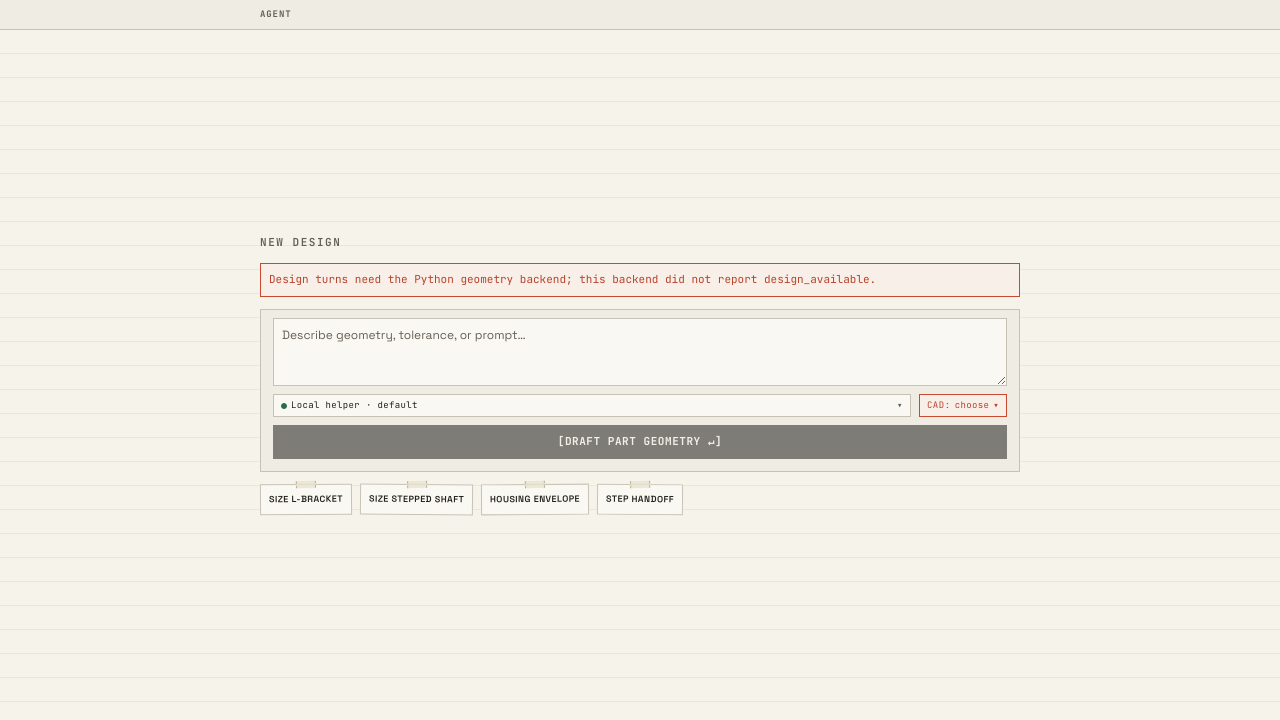
Test: agent card badge › shows the offline local route and the measured reply time
Click the button "Local helper · default ▾" at (326, 405), box [273, 394, 911, 417]
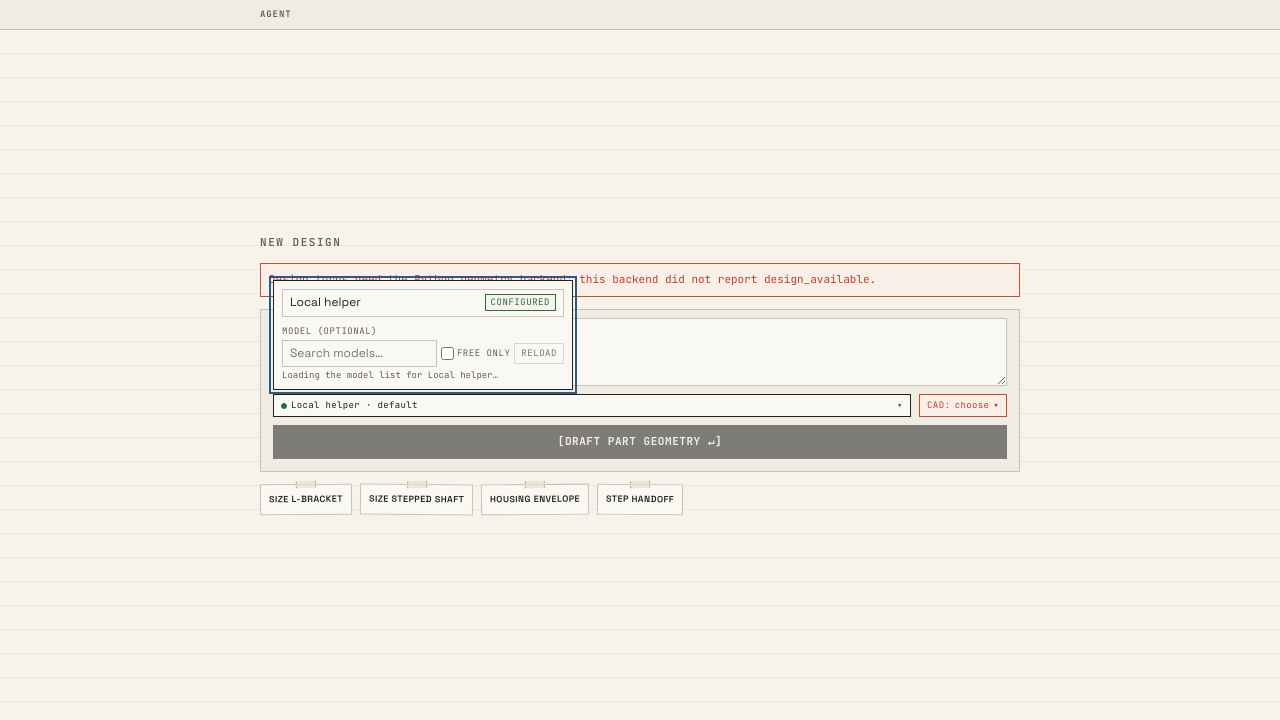
Click the button "Local helper Configured" at (325, 302), box [282, 289, 564, 317]
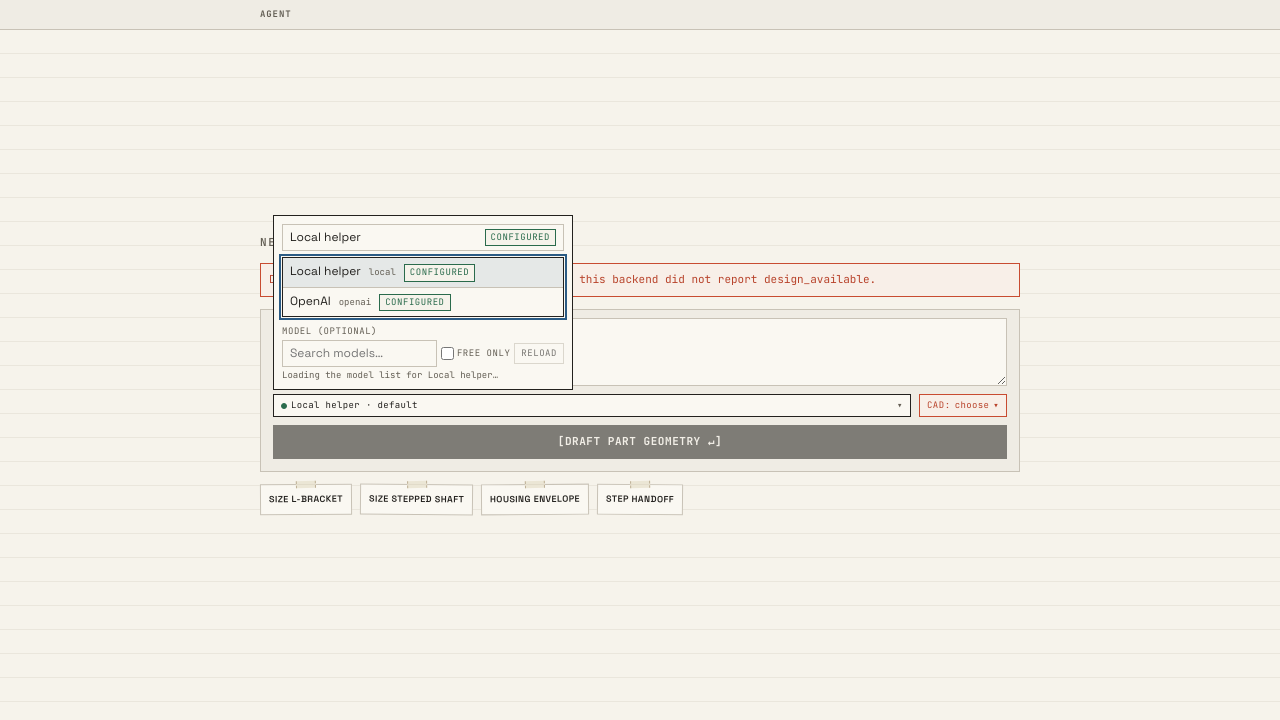
Click the option "Local helper local Configured" at (423, 273), box [283, 258, 563, 288]
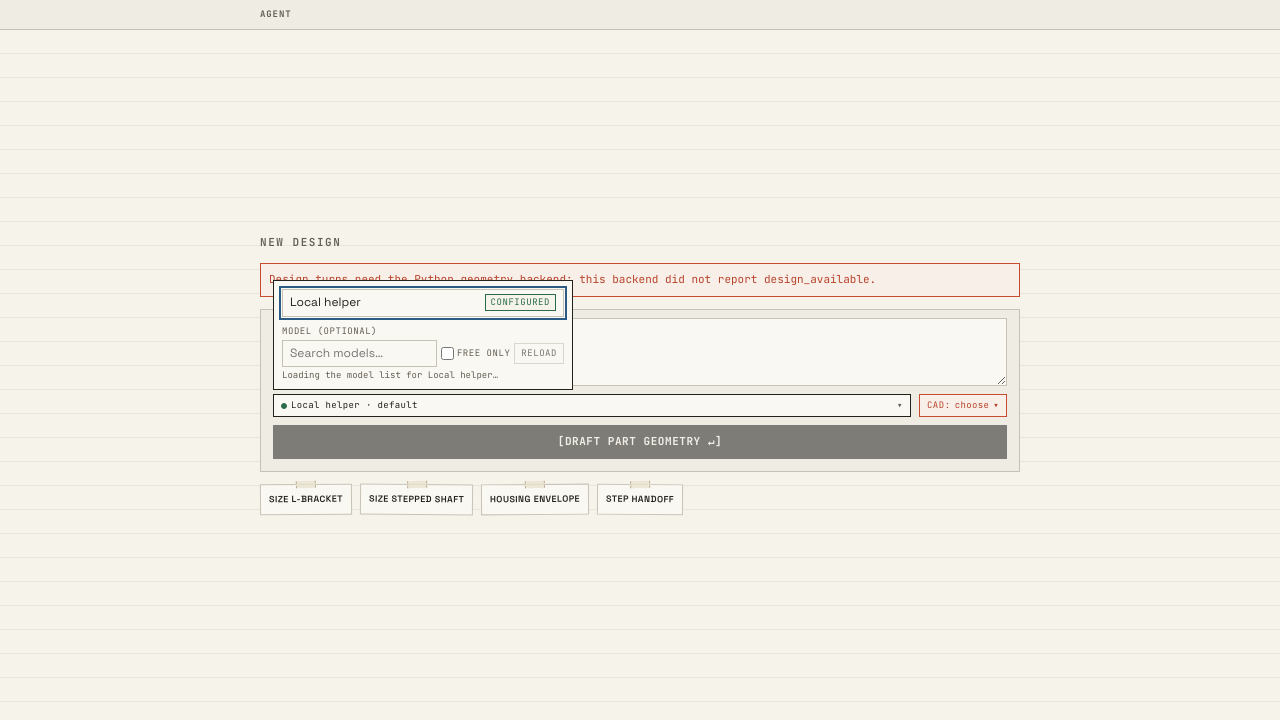
Type "size the bracket" into the text box with class "chat-panel-prompt" at (640, 352), box [273, 318, 1007, 386]
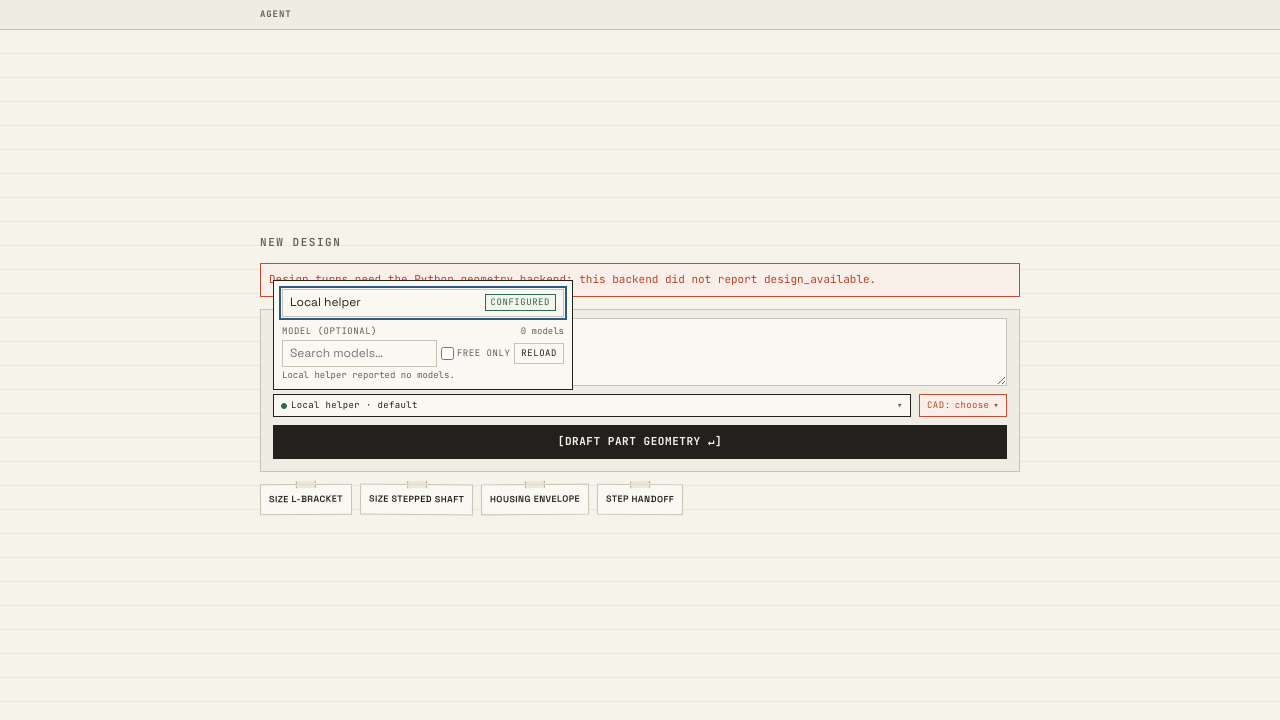
Now the button with class "chat-panel-send" is enabled
Click the button with class "chat-panel-send" at (640, 442), box [273, 425, 1007, 459]
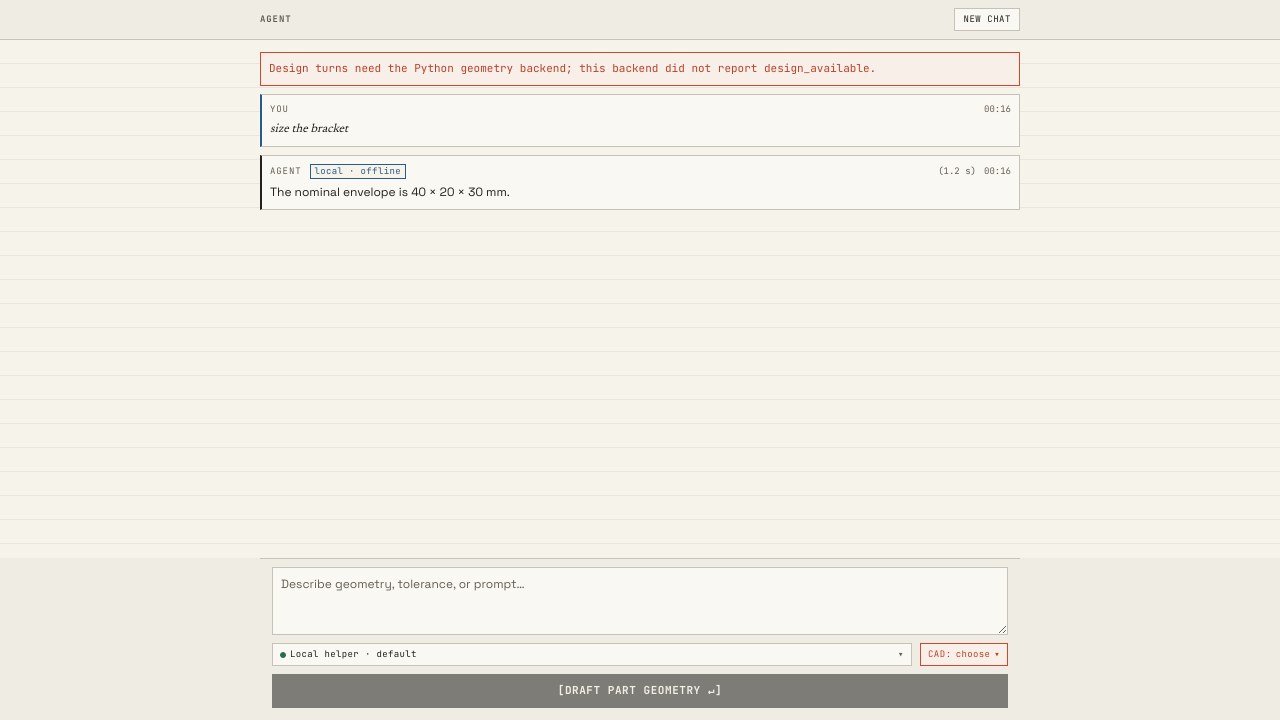
Now the text "local · offline" is shown, box [310, 164, 406, 179]
Now the text with class "chat-panel-message-badge" reads "local · offline", box [314, 165, 401, 177]
Now the text with class "chat-panel-message-elapsed" reads "(1.2 s)", box [944, 165, 971, 177]
